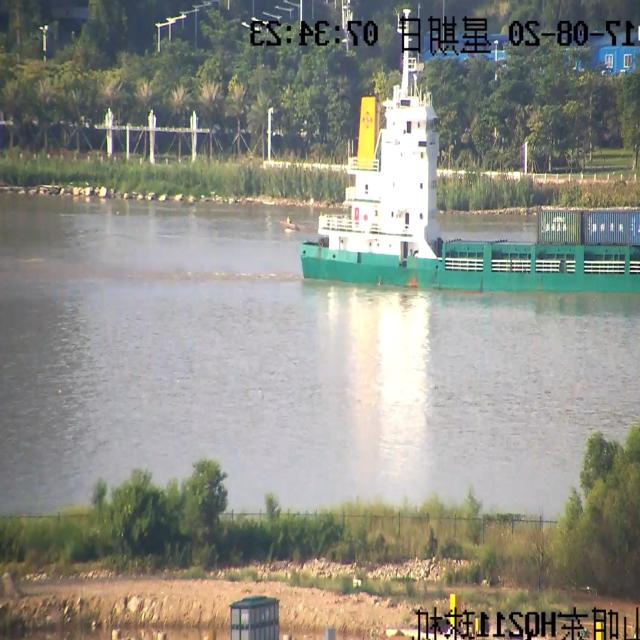cargoship: (281, 77, 640, 278)
